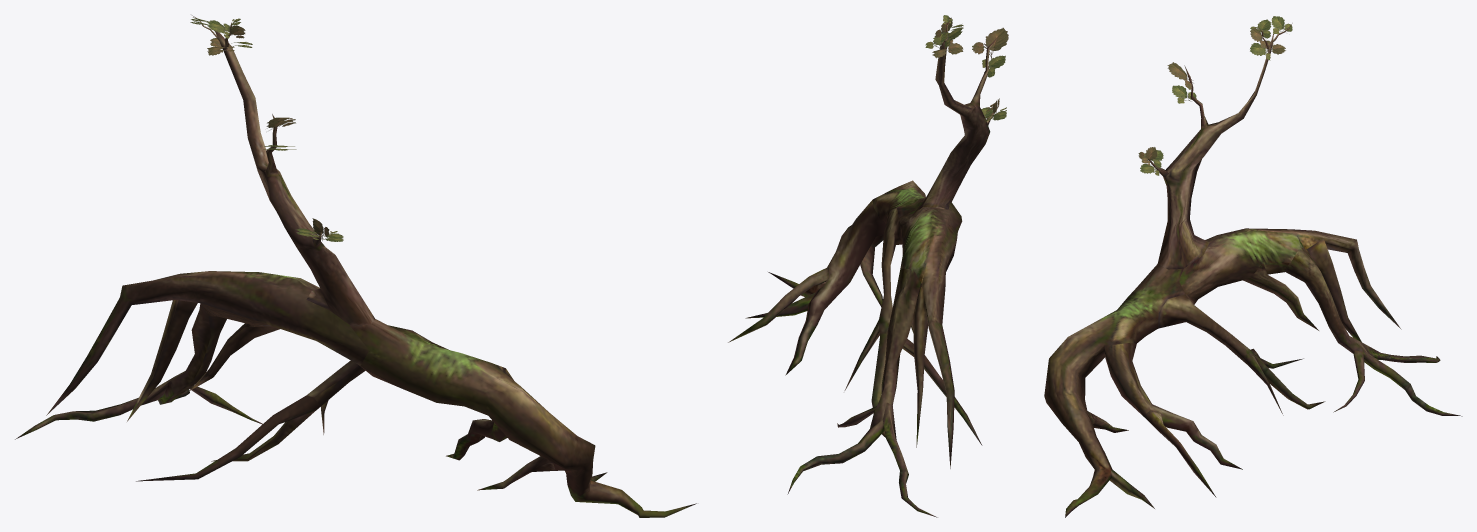
File: wlf_shugeng04_w.FBX
The picture shows the model from 3 angles, left to right: view 1: azimuth 30°, elevation 25°; view 2: azimuth 150°, elevation 25°; view 3: azimuth 270°, elevation 25°; orthographic projection. The views are drawn at different scales.
Parts seen in each view (by area): view 1: wlf_shugeng04_w; view 2: wlf_shugeng04_w; view 3: wlf_shugeng04_w.
Part boxes in pixels (x1,y1,x2,y2): wlf_shugeng04_w: (15, 15, 696, 517); wlf_shugeng04_w: (728, 15, 1008, 517); wlf_shugeng04_w: (1044, 16, 1462, 517).
Bounding box in the file's own units: 42.62 × 44.51 × 45.31.
